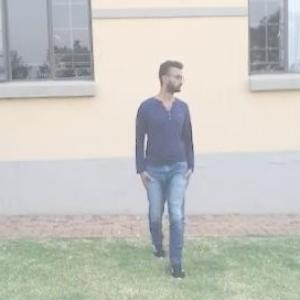follow: (129, 49, 204, 284)
